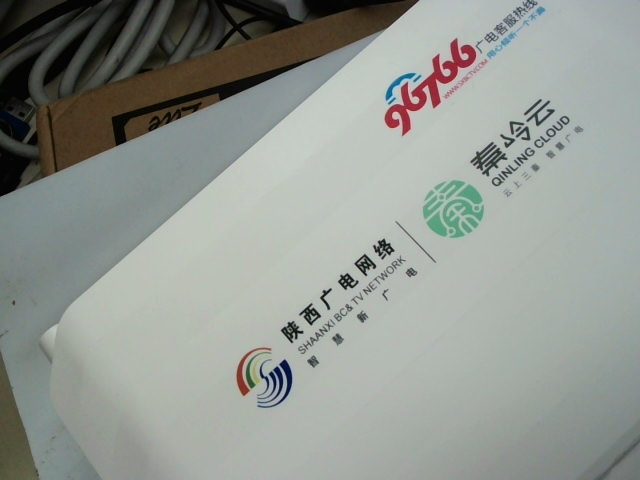AE_QinLing: (418, 97, 587, 243)
